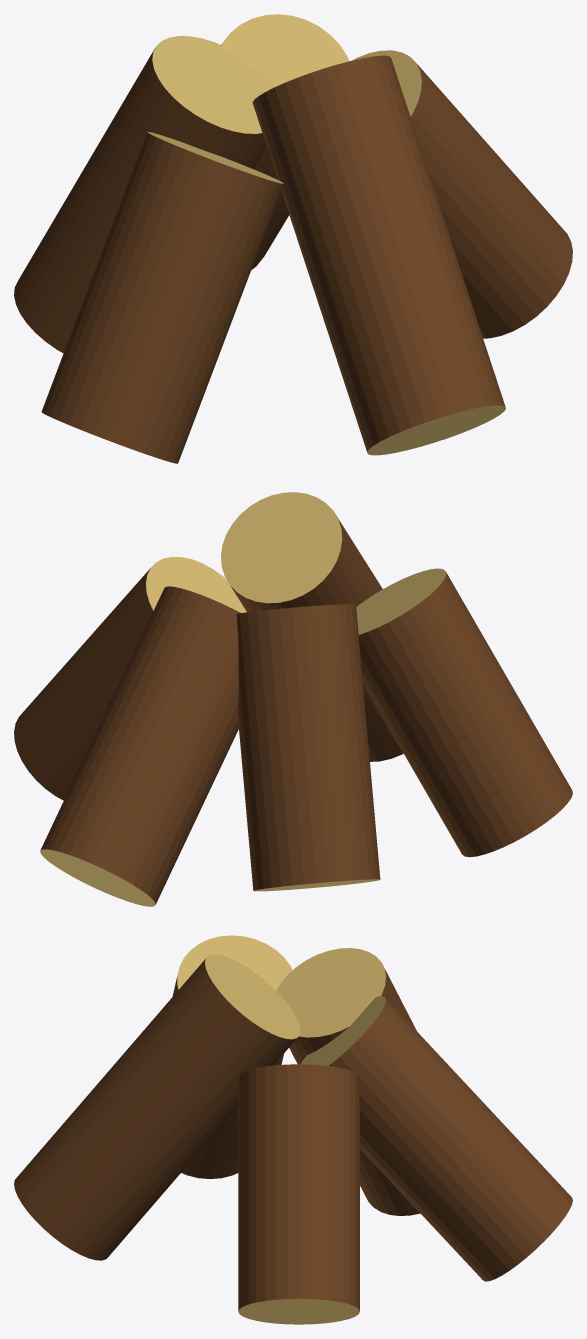
File: Fire_Pit.fbx
3 renders of one model, top to bottom at view 1: azimuth 30°, elevation 25°; view 2: azimuth 150°, elevation 25°; view 3: azimuth 270°, elevation 25°, orthographic. The views are drawn at different scales.
Visible parts, largest first — view 1: Cylinder; view 2: Cylinder; view 3: Cylinder.
Boxes of the visible parts, left/top/right/bottom form: Cylinder: left=14, top=14, right=572, bottom=463; Cylinder: left=14, top=492, right=572, bottom=906; Cylinder: left=14, top=935, right=572, bottom=1324.
Bounding box in the file's own units: 126 × 75.74 × 130.
